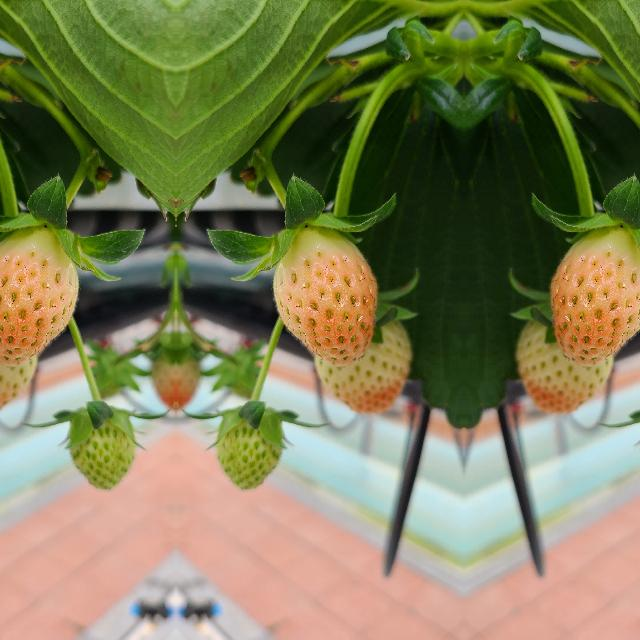Health_25: (214, 405, 280, 491), (70, 405, 136, 491)
Health_50: (313, 313, 425, 411), (501, 313, 613, 411), (0, 313, 37, 411)
Health_75: (272, 222, 376, 366), (550, 222, 640, 365), (0, 222, 78, 365)
